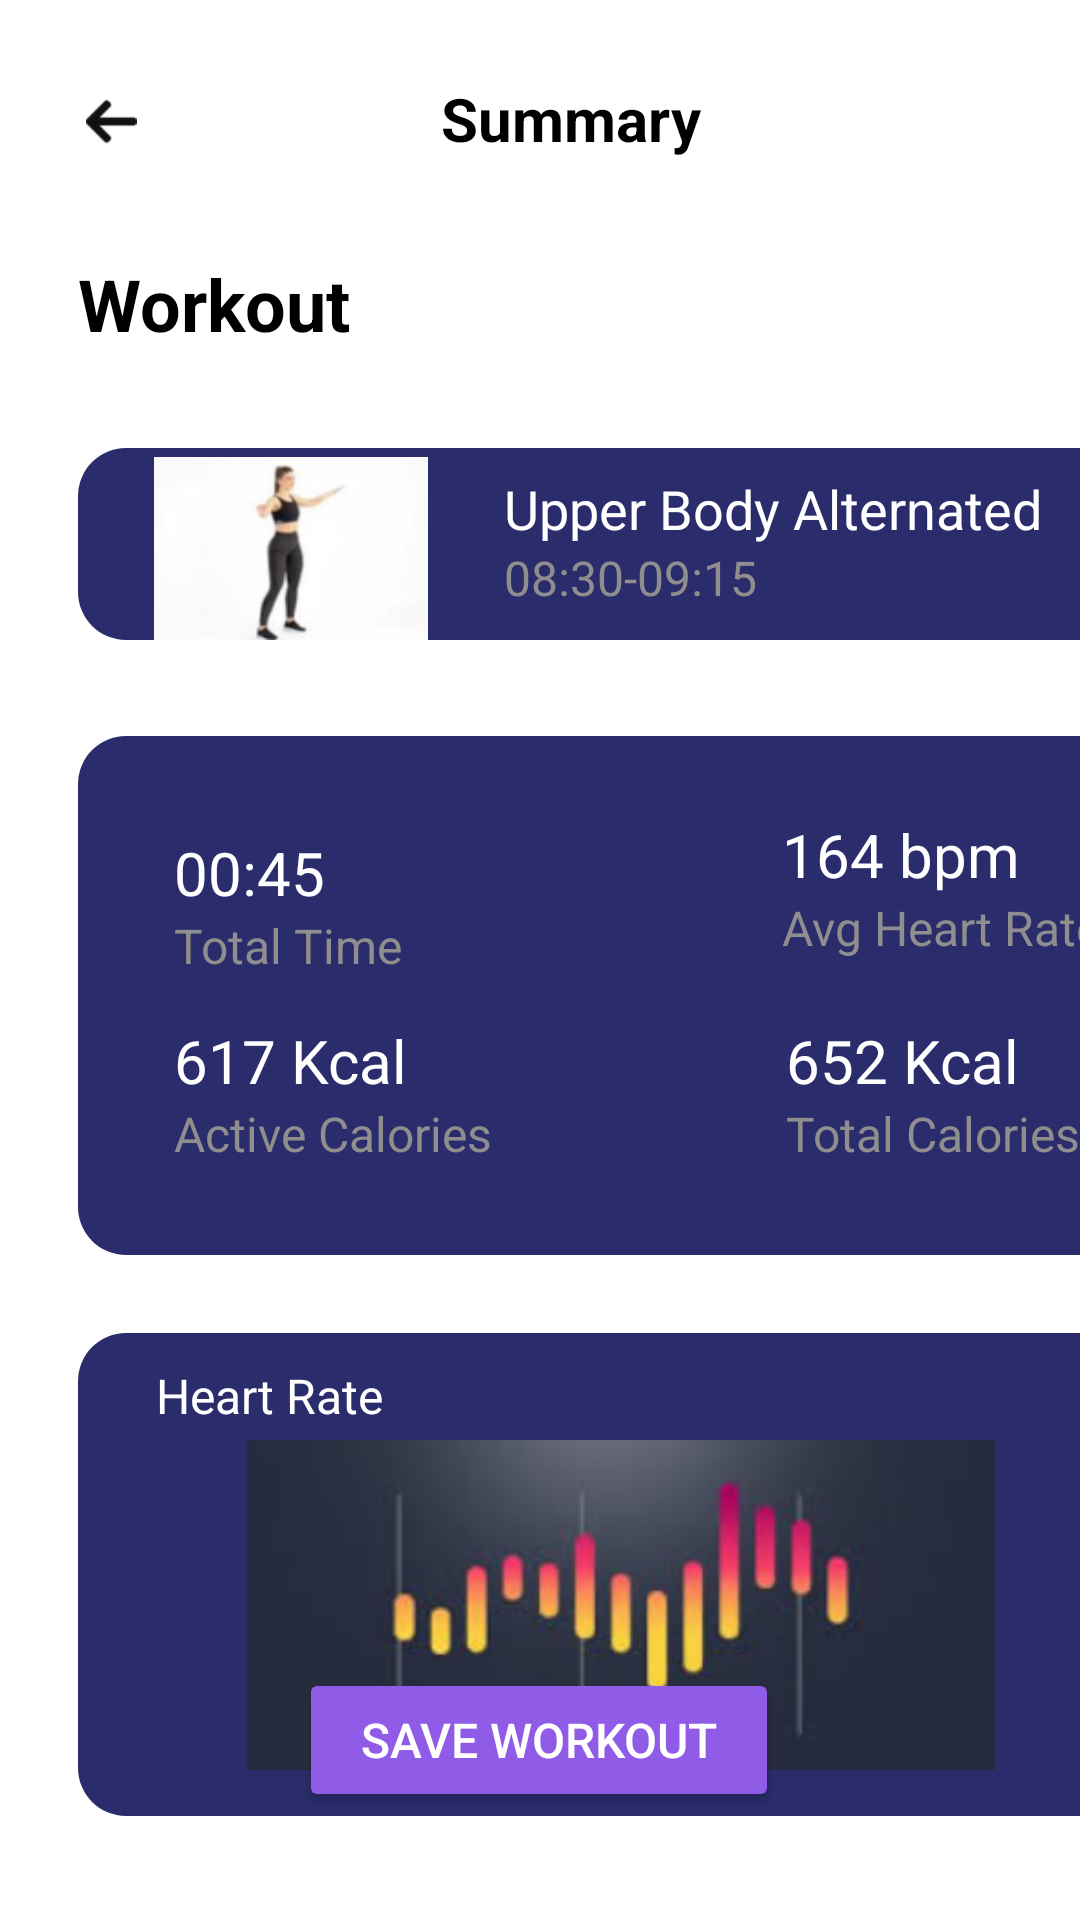

Icons on this 1080w x 1920h Android screen, each with its box as [x1=x1, y1=y1, x2=x2, y2=y2]:
left arrow: [x1=86, y1=99, x2=137, y2=144]
